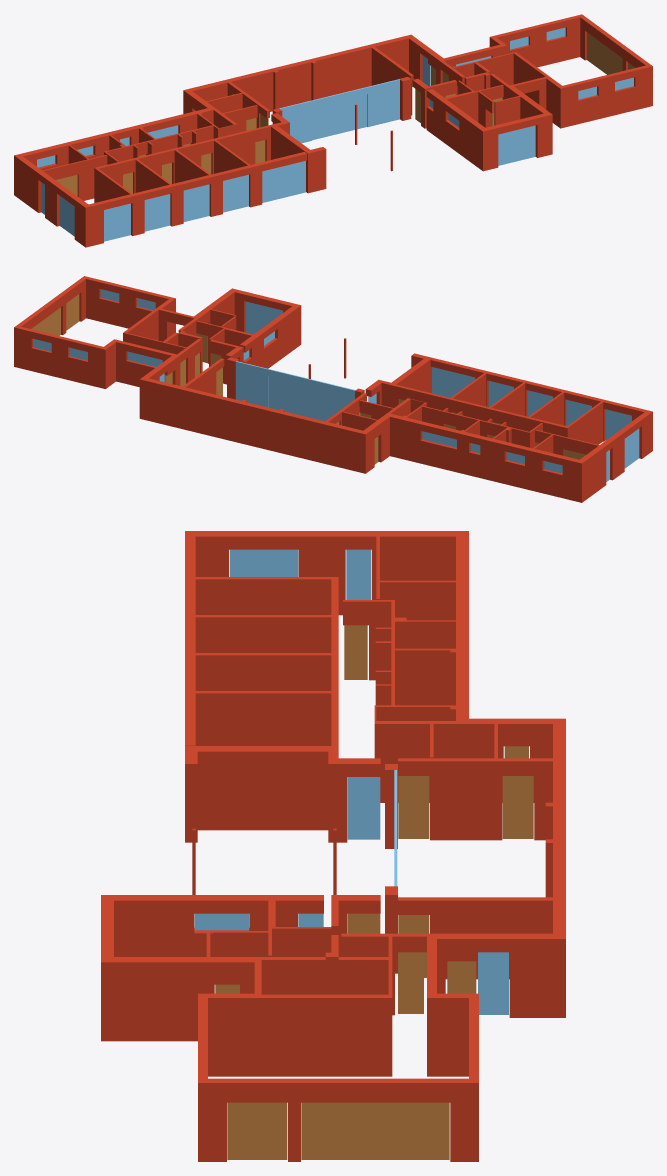
Rendered from ground_floor.glb.
3 renders of one model, top to bottom at view 1: azimuth 30°, elevation 25°; view 2: azimuth 150°, elevation 25°; view 3: azimuth 270°, elevation 25°, orthographic. The views are drawn at different scales.
Parts seen in each view (by area): view 1: masonry (×36), glazing (×9), door; view 2: masonry (×34), glazing (×9), door (×2); view 3: masonry (×37), door (×7), glazing (×5).
Boxes of the visible parts, x1=… form: masonry (×36): x1=14, y1=14, x2=652, y2=247; glazing (×9): x1=59, y1=79, x2=535, y2=241; door: x1=587, y1=32, x2=622, y2=74; masonry (×34): x1=14, y1=276, x2=652, y2=502; glazing (×9): x1=236, y1=301, x2=639, y2=468; door (×2): x1=31, y1=294, x2=79, y2=335; masonry (×37): x1=101, y1=531, x2=565, y2=1161; door (×7): x1=227, y1=625, x2=533, y2=1159; glazing (×5): x1=194, y1=549, x2=508, y2=1014.
Size of the model in its own units: 45.05 by 3 by 16.05.
